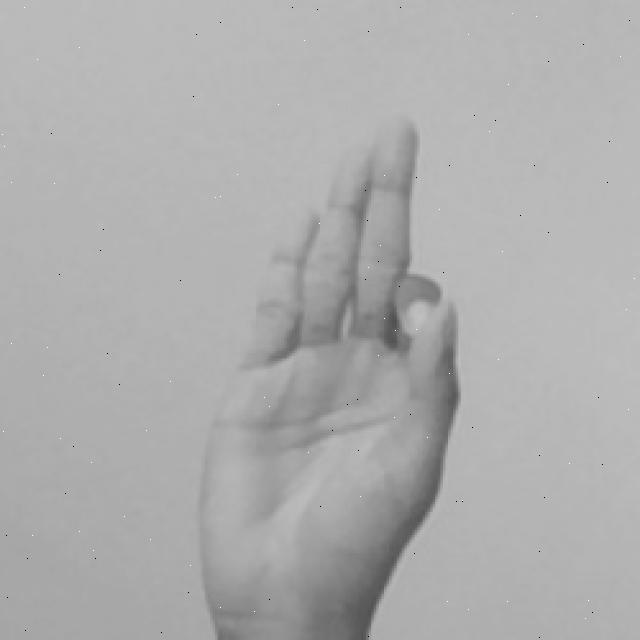F: (191, 109, 467, 640)
